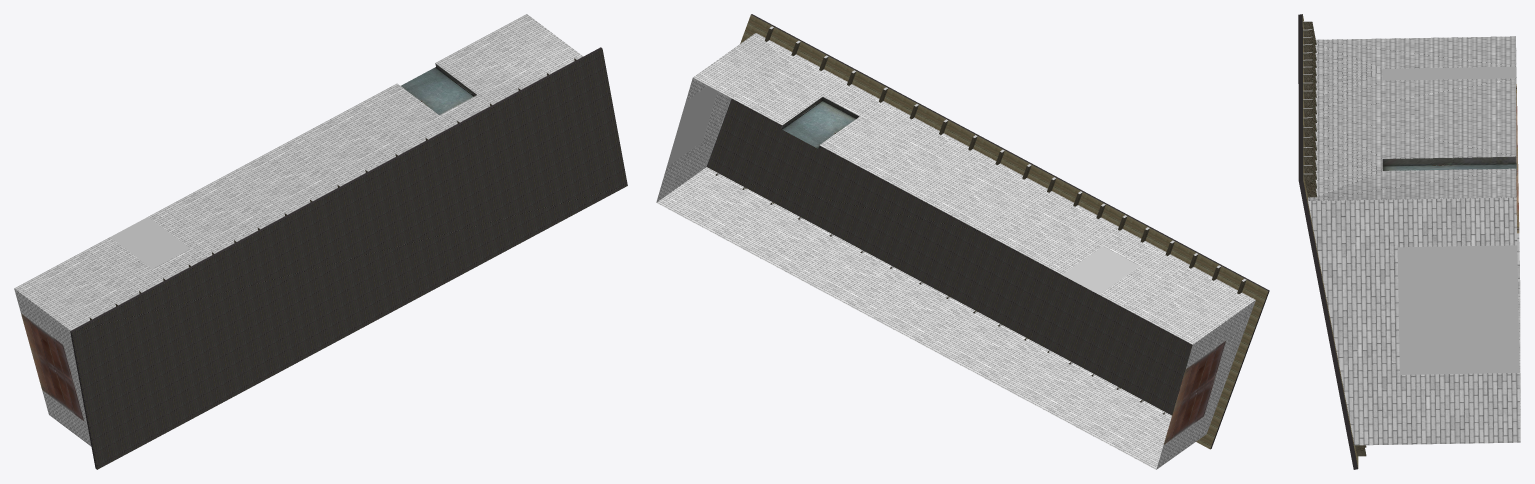
The model's file is Toompuiestee_20_2.obj.
3 renders of one model, left to right at view 1: azimuth 30°, elevation 25°; view 2: azimuth 150°, elevation 25°; view 3: azimuth 270°, elevation 25°, orthographic. The views are drawn at different scales.
Visible parts, largest first — view 1: Toompuiestee_20_2; view 2: Toompuiestee_20_2; view 3: Toompuiestee_20_2.
Part boxes in pixels (left/top/right/bottom): Toompuiestee_20_2: left=14, top=14, right=627, bottom=469; Toompuiestee_20_2: left=656, top=14, right=1269, bottom=469; Toompuiestee_20_2: left=1298, top=14, right=1520, bottom=469.
Size of the model in its own units: 17.46 by 9.16 by 3.68.
